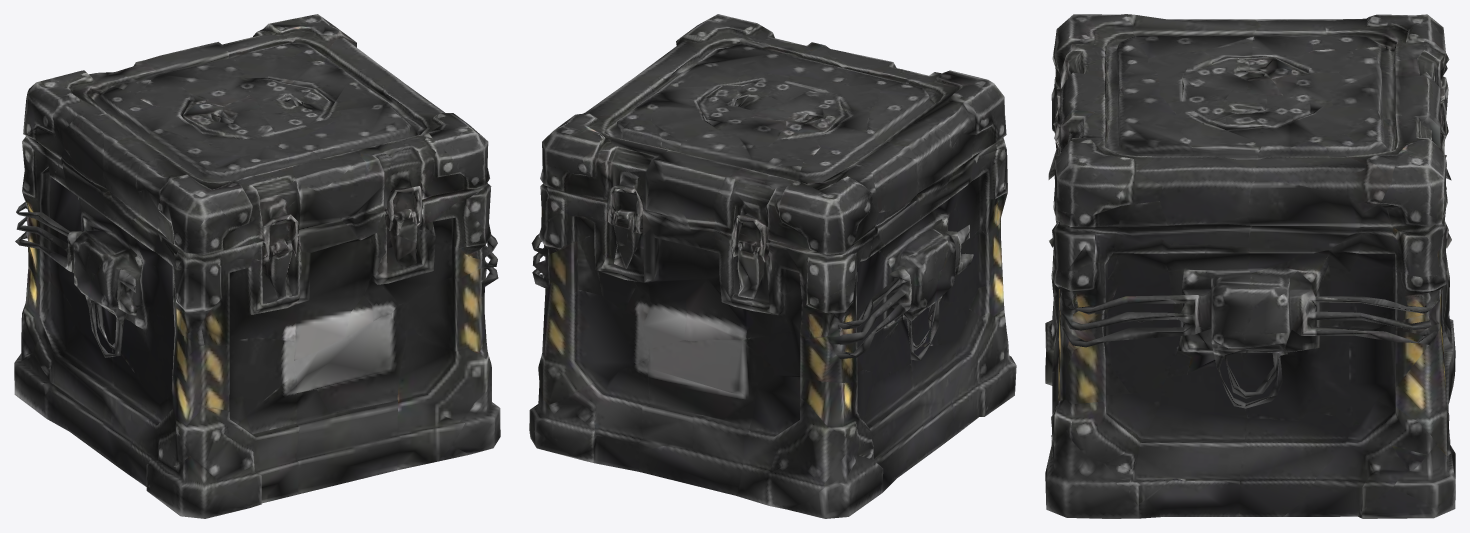
File: caja-lite.glb
The picture shows the model from 3 angles, left to right: view 1: azimuth 30°, elevation 25°; view 2: azimuth 150°, elevation 25°; view 3: azimuth 270°, elevation 25°; orthographic projection. The views are drawn at different scales.
Size of the model in its own units: 1.9 by 1.7 by 1.83.
Materials: 1 (1 with a texture image).
